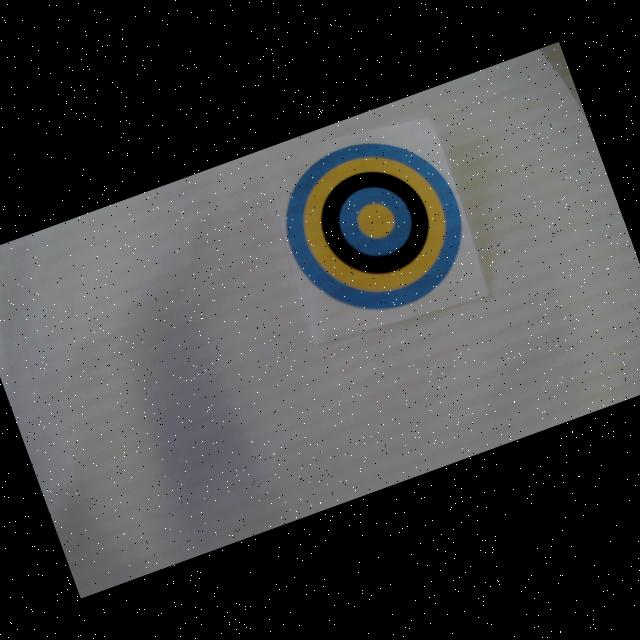COGNITIVE: (265, 117, 486, 336)
